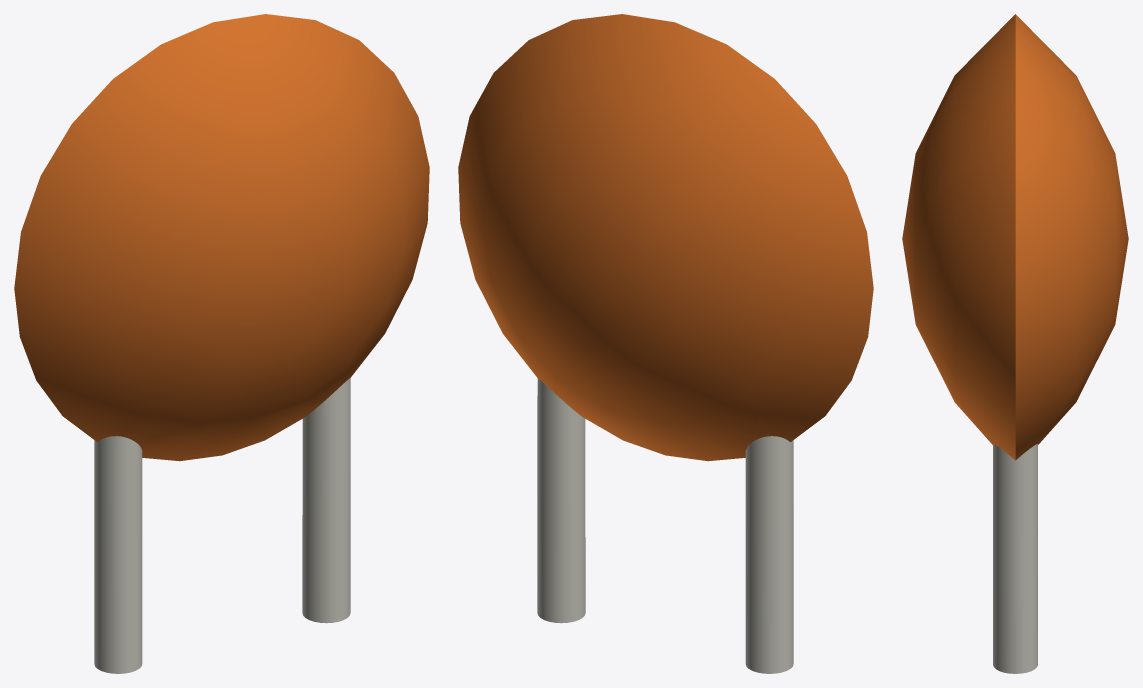
File: Capacitor_THT__C_Disc_D5.0mm_W2.5mm_P2.50mm.glb
3 renders of one model, left to right at view 1: azimuth 30°, elevation 25°; view 2: azimuth 150°, elevation 25°; view 3: azimuth 270°, elevation 25°, orthographic. The views are drawn at different scales.
Visible parts, largest first — view 1: C_Disc_D50mm_W25mm_P250mm; view 2: C_Disc_D50mm_W25mm_P250mm; view 3: C_Disc_D50mm_W25mm_P250mm.
Boxes of the visible parts, <box> form: C_Disc_D50mm_W25mm_P250mm: <box>14,14,429,673</box>; C_Disc_D50mm_W25mm_P250mm: <box>458,14,873,673</box>; C_Disc_D50mm_W25mm_P250mm: <box>902,14,1128,673</box>.
Bounding box in the file's own units: 0.00499 × 0.0071 × 0.0025.
